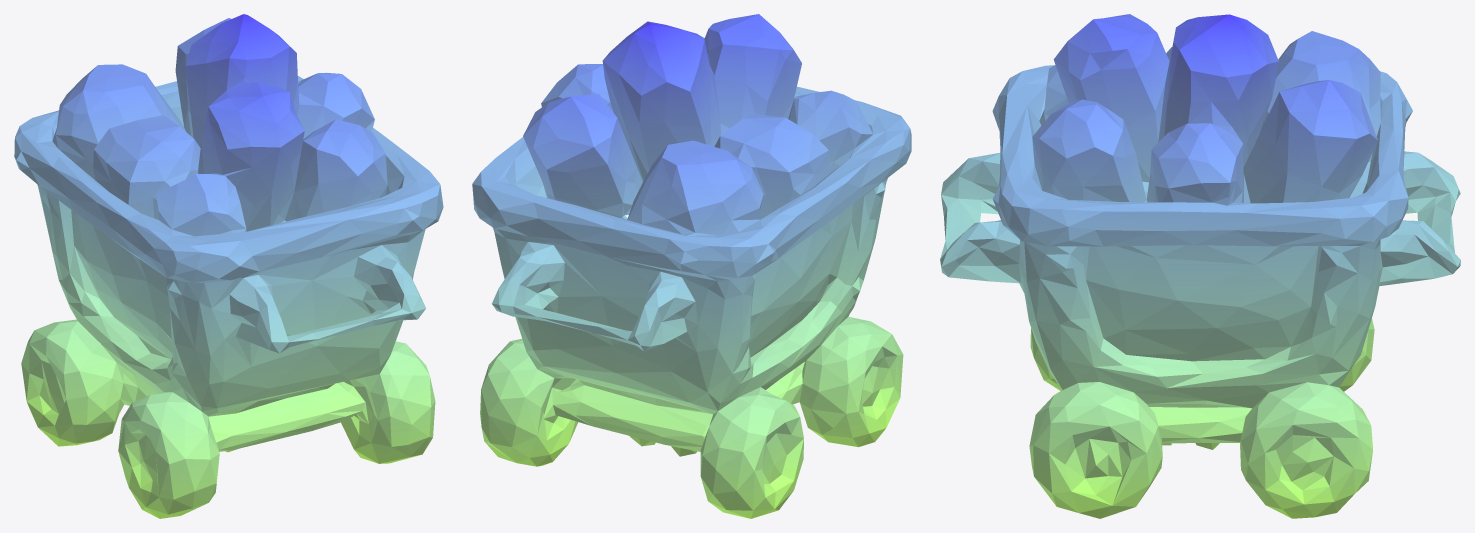
File: 173_cyb_laser_gradient_fish_scales_2787_2026_10_03_7bb6af.glb
3 views of the same model, side by side, from view 1: azimuth 30°, elevation 25°; view 2: azimuth 150°, elevation 25°; view 3: azimuth 270°, elevation 25° (orthographic). The views are drawn at different scales.
Visible parts, largest first — view 1: geometry_0; view 2: geometry_0; view 3: geometry_0.
Boxes of the visible parts, x1=… form: geometry_0: x1=14, y1=14, x2=443, y2=518; geometry_0: x1=472, y1=14, x2=911, y2=518; geometry_0: x1=940, y1=14, x2=1460, y2=518.
Bounding box in the file's own units: 0.69 × 0.9567 × 0.9929.
